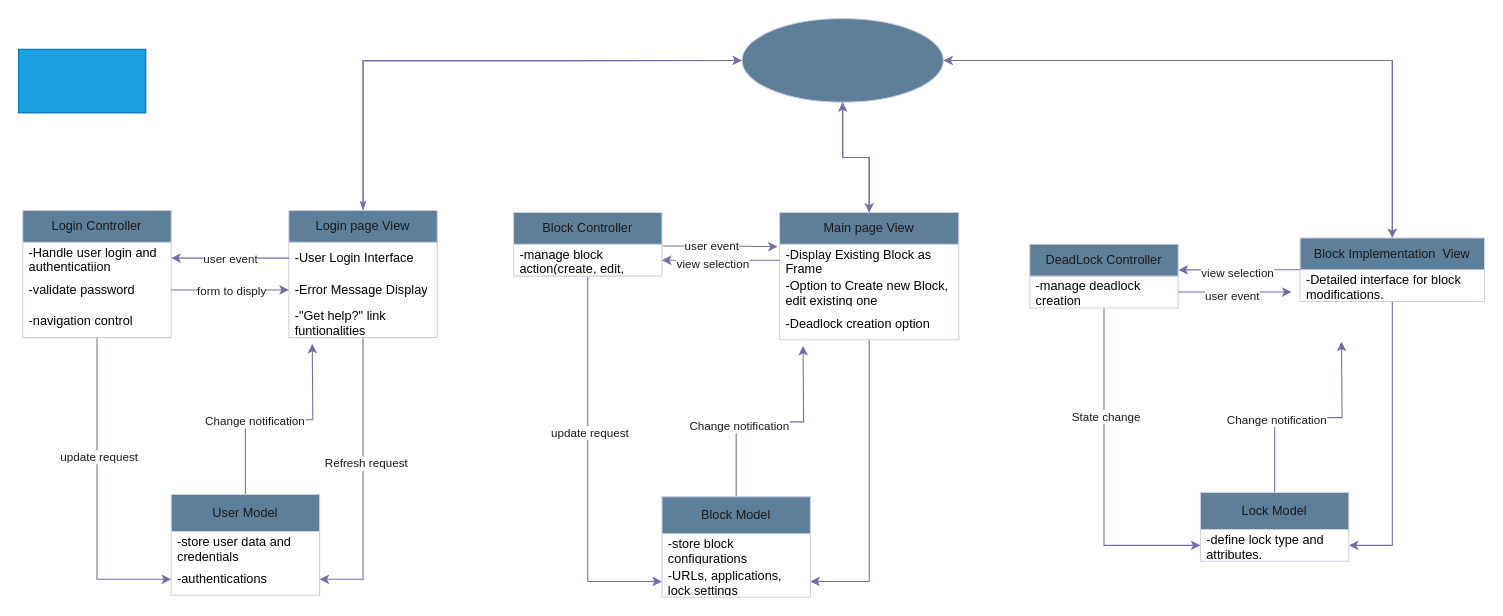
Image size: 1503x616. Some labels were removed from this diagram. Each missing label, with the centre of its shape:
Overall System Architecture using MVC: the point at 81,80
User Interface (View): the point at 842,59
